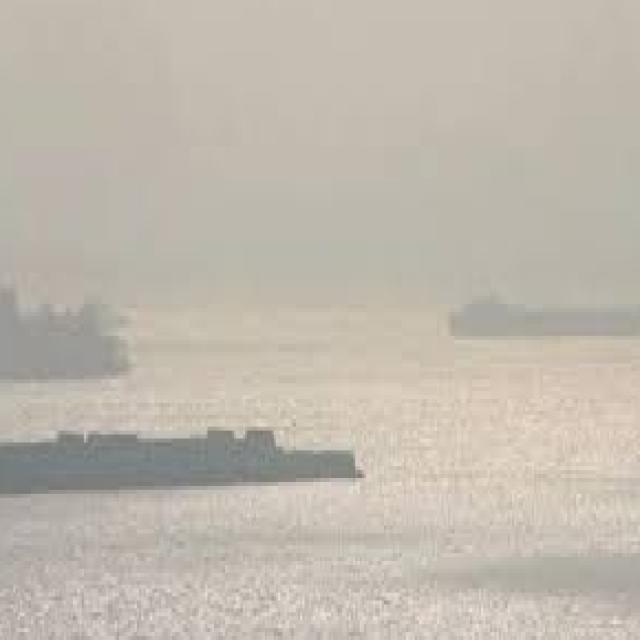cargoship: (0, 399, 362, 502), (0, 284, 130, 376), (446, 284, 640, 340)
